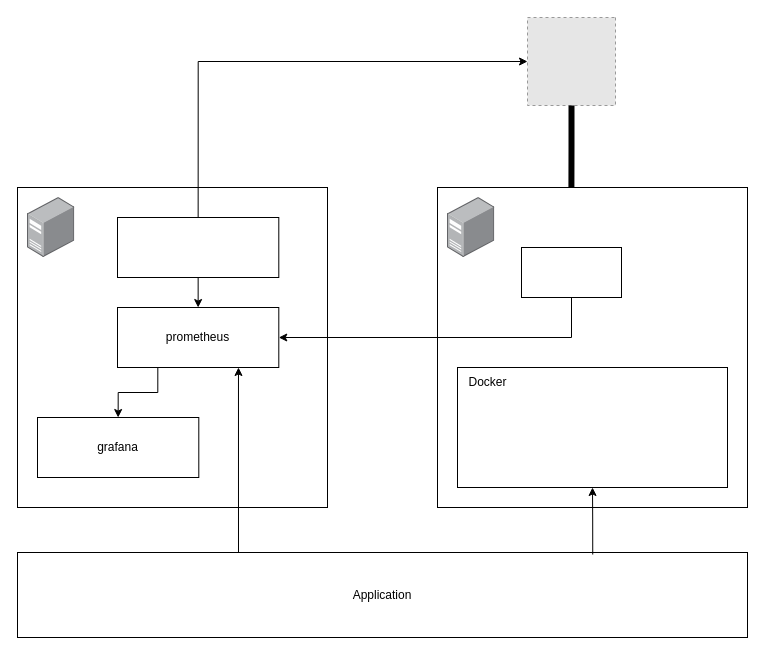
Some shapes in this 765 by 655 pixel diagram are drawn without their labels. Grey dashed boxes stand in for pictures. Each missing label, with the centre of its shape:
"power_plug_monitor" belongs at point (197, 247).
"scaphandre" belongs at point (571, 272).
